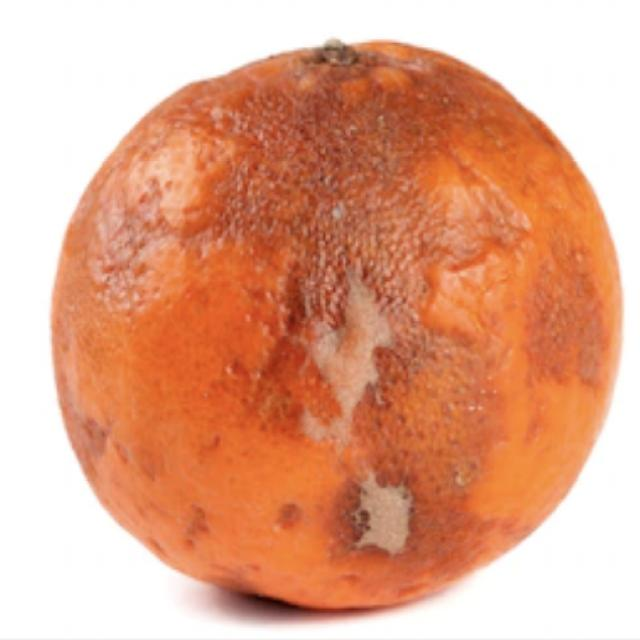rotten-orange: (53, 38, 620, 609)
